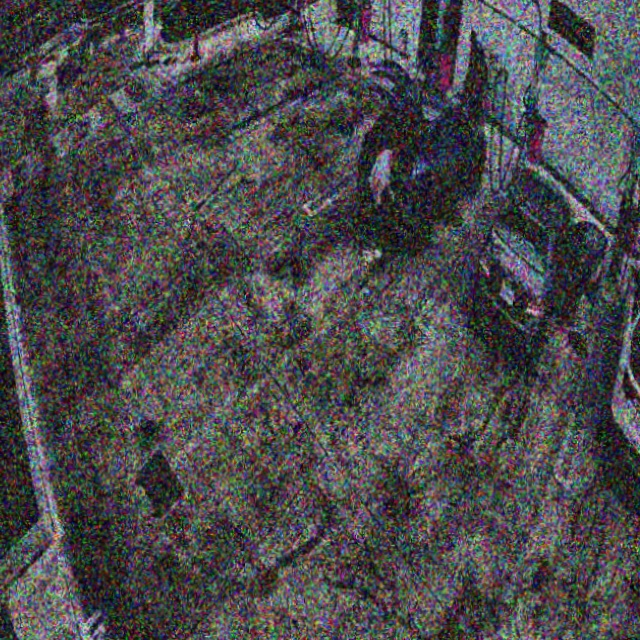Car: (357, 55, 490, 247), (473, 168, 602, 353)
